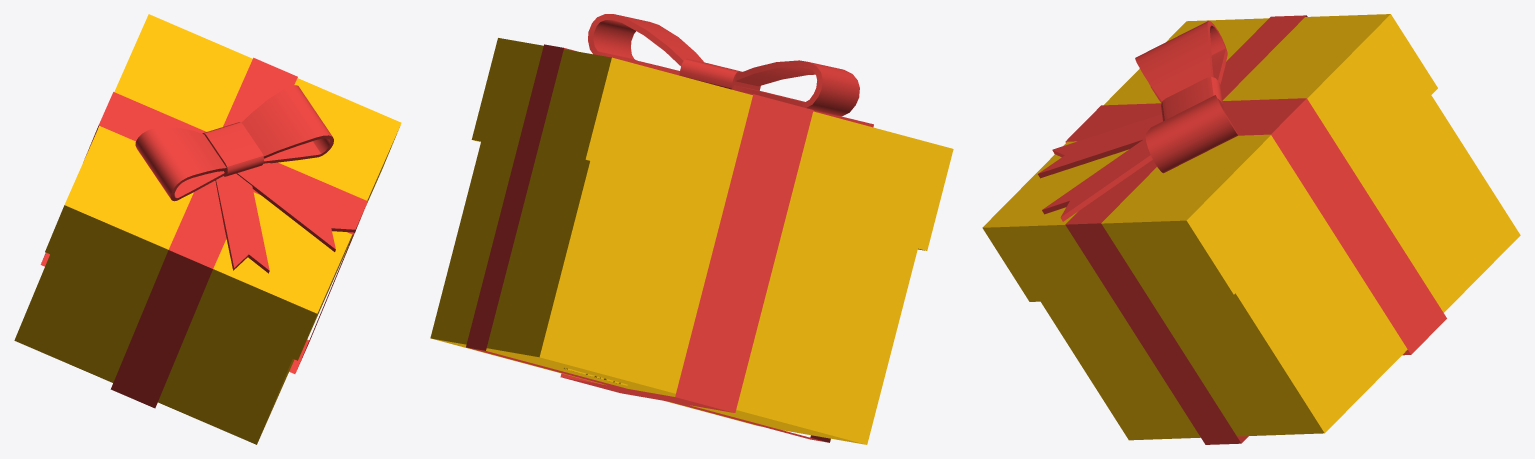
The model's file is wrapped_gift.fbx.
3 views of the same model, side by side, from view 1: azimuth 30°, elevation 25°; view 2: azimuth 150°, elevation 25°; view 3: azimuth 270°, elevation 25° (orthographic). The views are drawn at different scales.
Parts seen in each view (by area): view 1: Cube.096; view 2: Cube.096; view 3: Cube.096.
Boxes of the visible parts, x1,y1,x2,y2 form: Cube.096: [14, 14, 401, 444]; Cube.096: [430, 14, 953, 444]; Cube.096: [982, 14, 1520, 444].
Size of the model in its own units: 206 by 206 by 236.
Materials: 1 (1 with a texture image).
